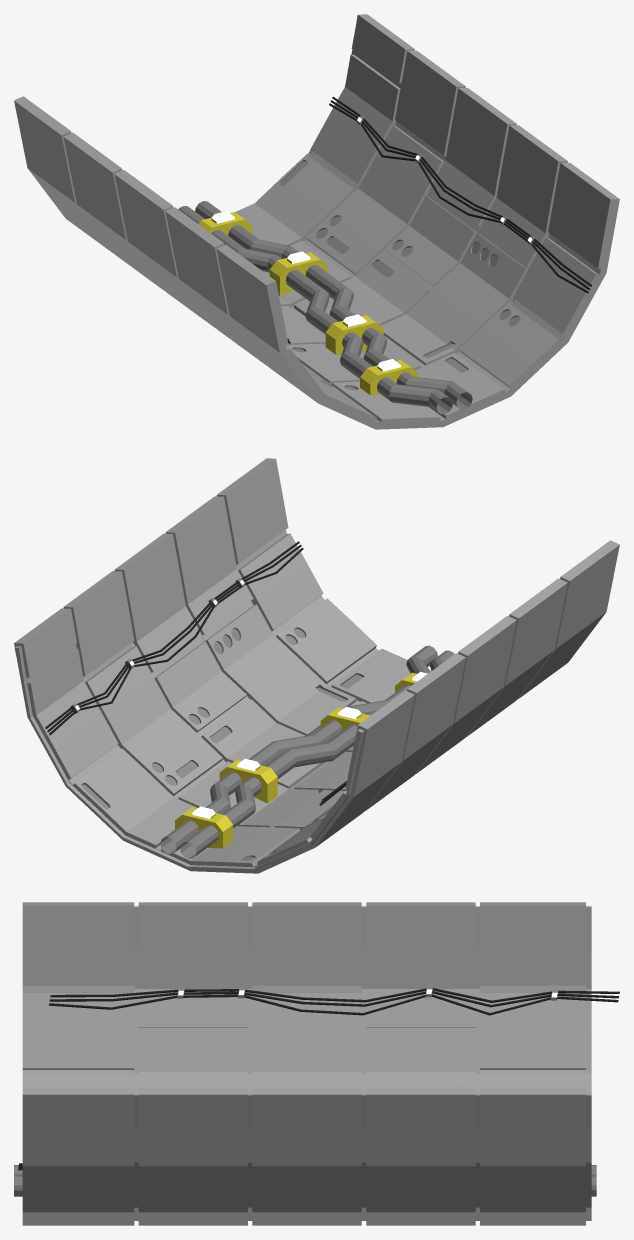
File: tunnel.gltf
The picture shows the model from 3 angles, top to bottom: view 1: azimuth 30°, elevation 25°; view 2: azimuth 150°, elevation 25°; view 3: azimuth 270°, elevation 25°; orthographic projection. The views are drawn at different scales.
Parts seen in each view (by area): view 1: Background Tunnel, Vert.001, Vert, Cube.010, Cube.007, Cube.008, Cube.009, Cube.011; view 2: Background Tunnel, Vert, Vert.001, Cube.010, Cube.008, Cube.011, Cube.007; view 3: Background Tunnel, Cube.010.
Part boxes in pixels (x1,y1,x2,y2): Background Tunnel: (14,14,619,429); Vert.001: (178,206,452,414); Vert: (195,201,472,409); Cube.010: (287,96,591,343); Cube.007: (325,314,383,354); Cube.008: (269,251,327,295); Cube.009: (360,359,417,395); Cube.011: (198,211,252,235); Background Tunnel: (14,458,619,873); Vert: (160,645,437,854); Vert.001: (180,650,454,858); Cube.010: (45,541,347,805); Cube.008: (219,758,277,803); Cube.011: (175,806,232,848); Cube.007: (320,706,370,746); Background Tunnel: (22,902,591,1225); Cube.010: (18,987,619,1170).
Bounding box in the file's own units: 40 × 20.21 × 53.27.
